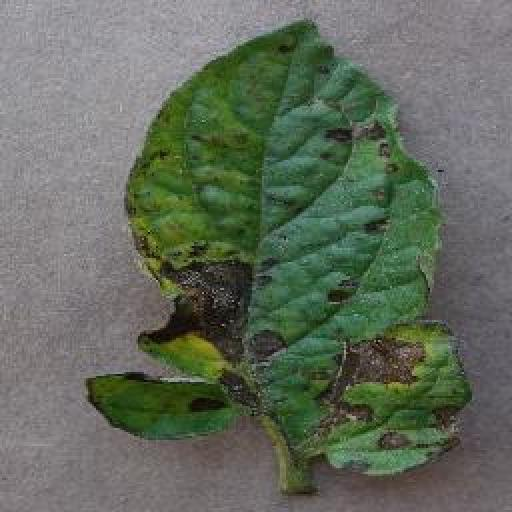Early Blight: (80, 16, 478, 476)
